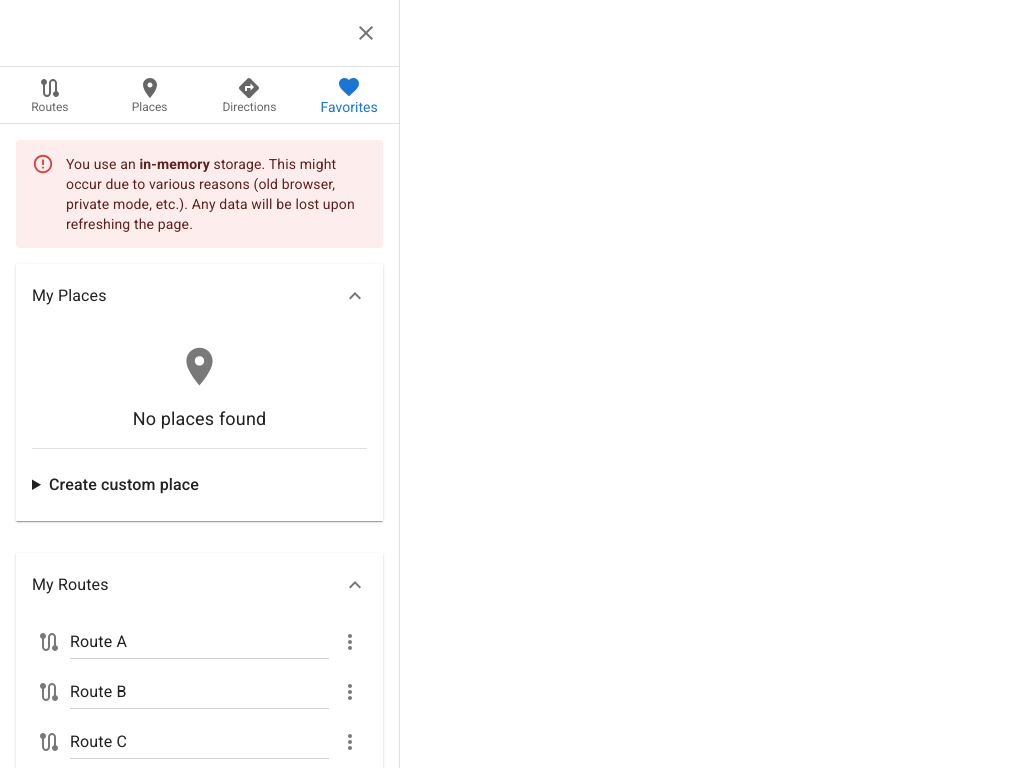
Test: <PanelDrawer /> › favorites › routes › should replace current sequence by points of a route ordered for modification
This screenshot has width=1024, height=768.
Click the button named "Menu" in the row of "Route B": coordinates (350, 692) top-left (333, 675), bottom-right (367, 709)
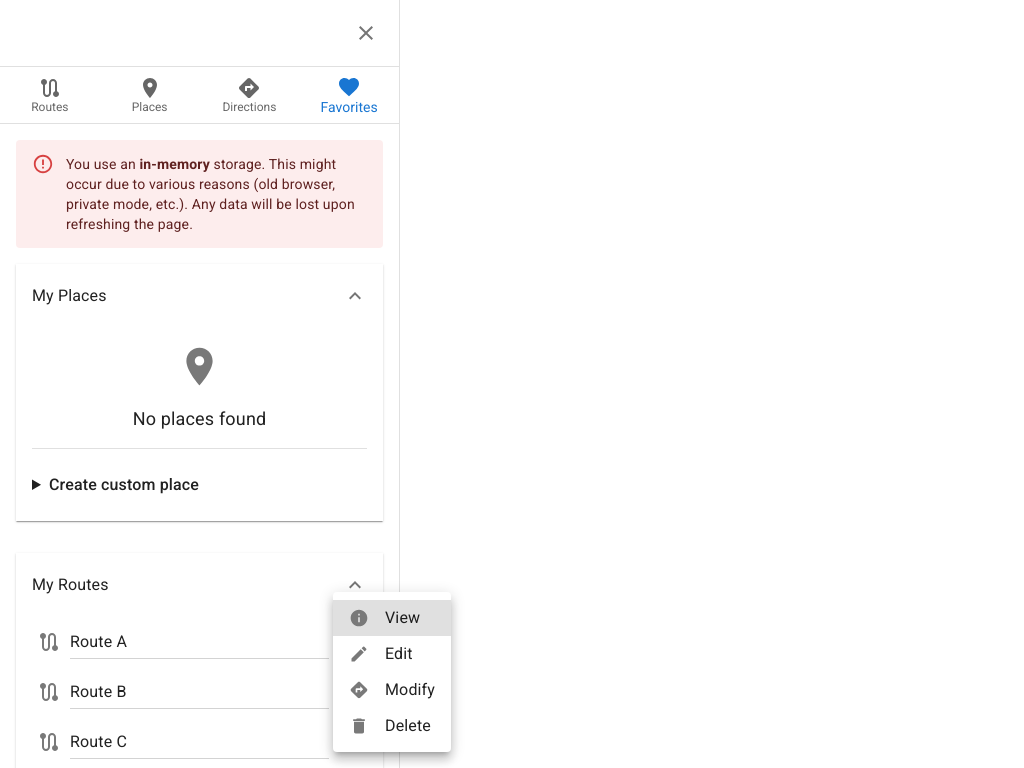
Click the menu item "Modify": coordinates (392, 690) top-left (349, 680), bottom-right (435, 700)
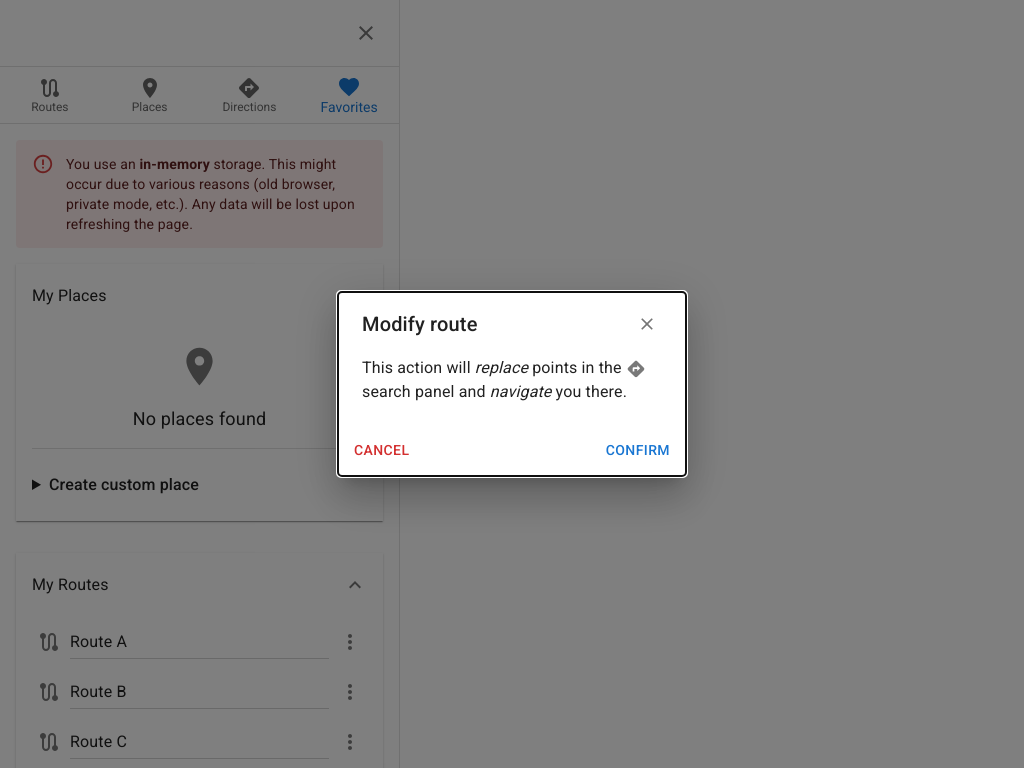
Click the button "Confirm": coordinates (638, 450) top-left (598, 432), bottom-right (678, 468)
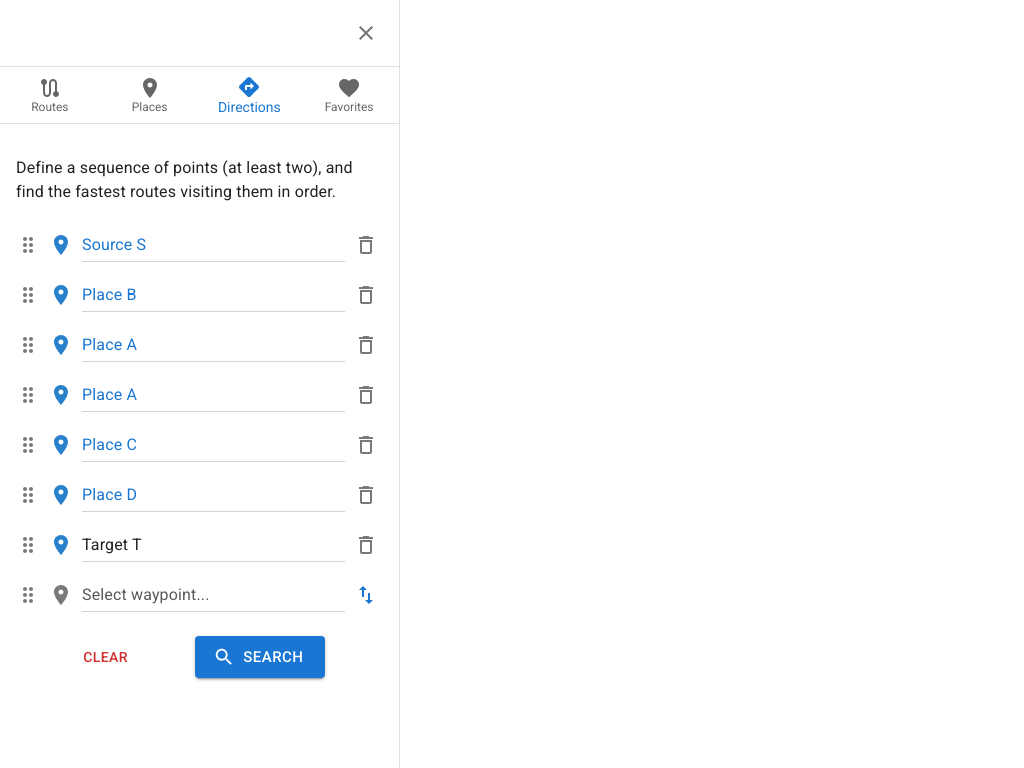
Expected: the link "Source S" is shown, top-left (82, 234), bottom-right (146, 254)
Expected: the link "Place B" is shown, top-left (82, 284), bottom-right (136, 304)
Expected: the 1st link "Place A" is shown, top-left (82, 334), bottom-right (137, 354)
